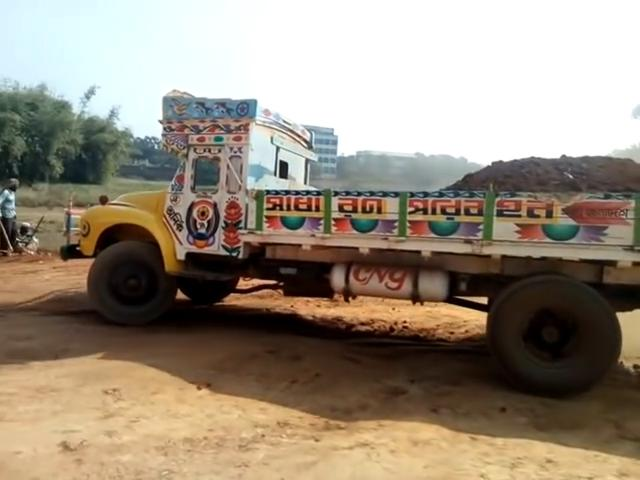truck: (78, 91, 640, 397)
